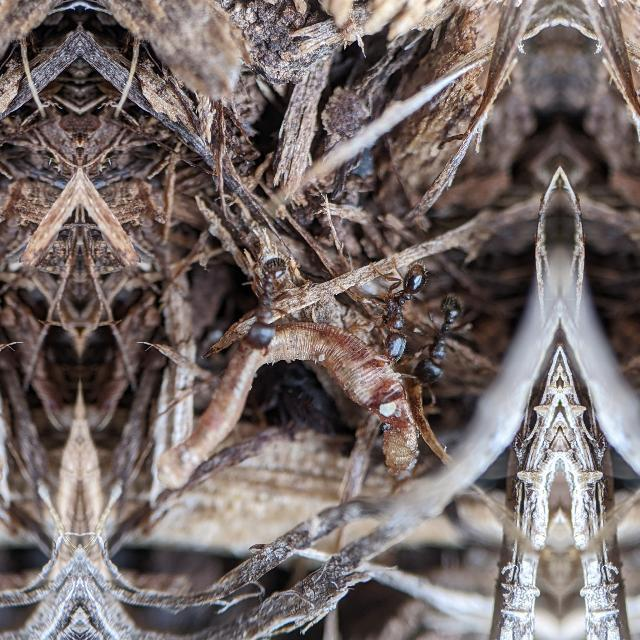Tetramorium: (406, 294, 486, 402), (232, 244, 304, 356), (372, 234, 422, 368)
